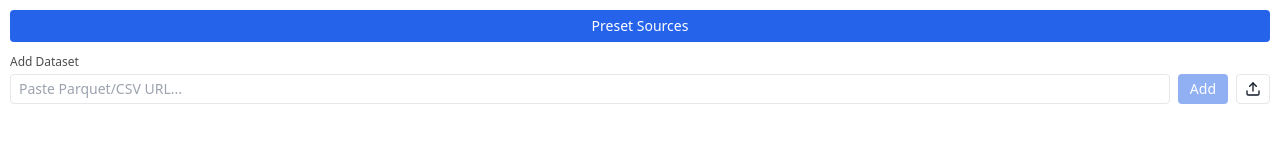
Test case: DI-SUBMIT-2: API error shows message › shows API error message when submission fails
In the field with placeholder "Paste Parquet/CSV URL...": (590, 89) top-left (10, 74), bottom-right (1170, 104), type "https://example.com/bad.parquet"
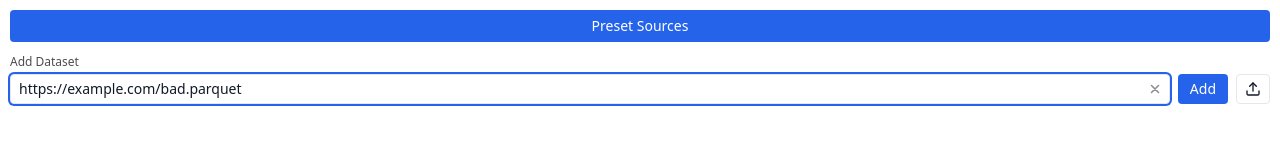
Click the button "Add": (1203, 89) top-left (1178, 74), bottom-right (1228, 104)
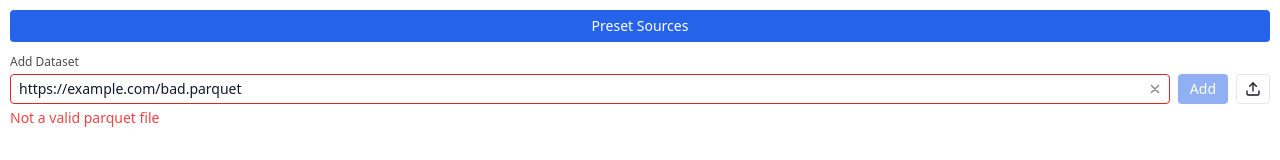
Now the text "Not a valid parquet file" is shown, box top-left (10, 108), bottom-right (160, 127)
